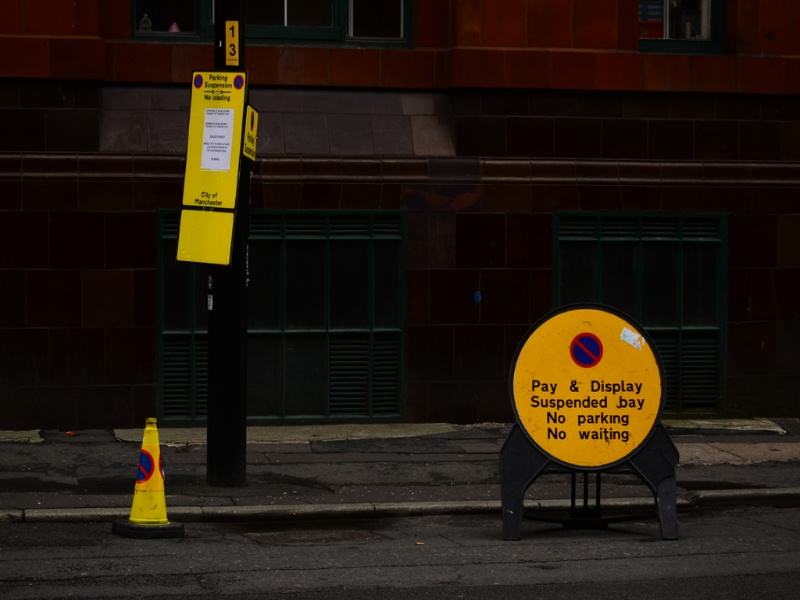no_parking: (522, 307, 685, 462)
